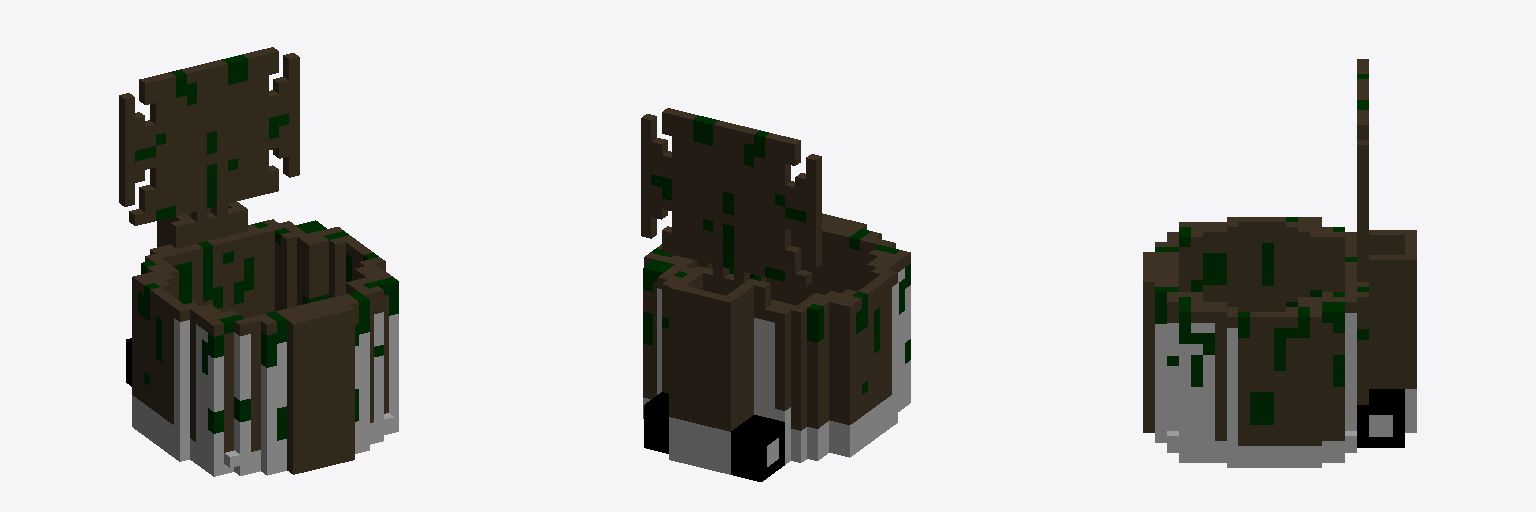
The picture shows the model from 3 angles: view 1: azimuth 30°, elevation 25°; view 2: azimuth 150°, elevation 25°; view 3: azimuth 270°, elevation 25°; orthographic projection.
Visible parts, largest first — view 1: object 1; view 2: object 1; view 3: object 1.
Boxes of the visible parts, box(x1,y1,x2,y2) form: object 1: box(119, 47, 398, 476); object 1: box(641, 108, 910, 481); object 1: box(1143, 59, 1416, 467).
Size of the model in its own units: 2 by 3 by 2.3.
1 materials, 1 textured.